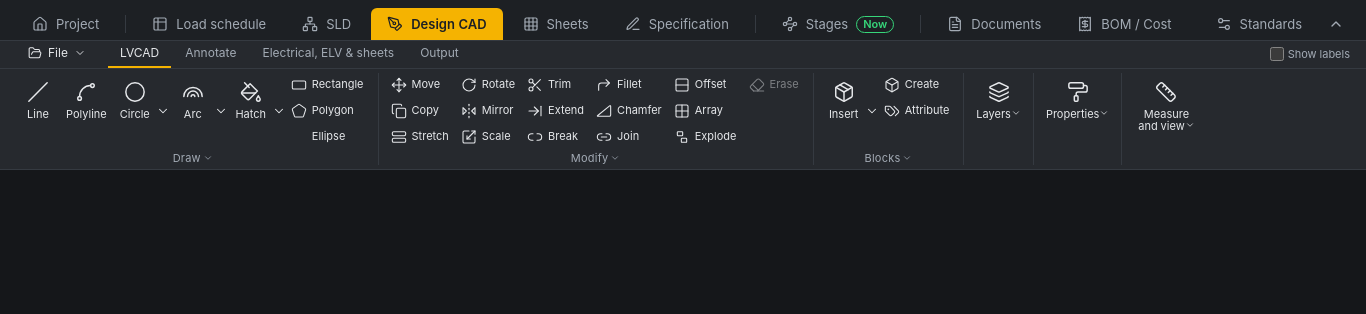
Test: Design CAD ribbon: File › runs what is picked and closes; Open, Close and Export are lists beside it; Esc closes it, not the command
The width and height of the screenshot is (1366, 314).
Later steps or results of the test are not shown.
Step 1. Click the button "File" → {"x": 57, "y": 54}, box left=16, top=41, right=98, bottom=68
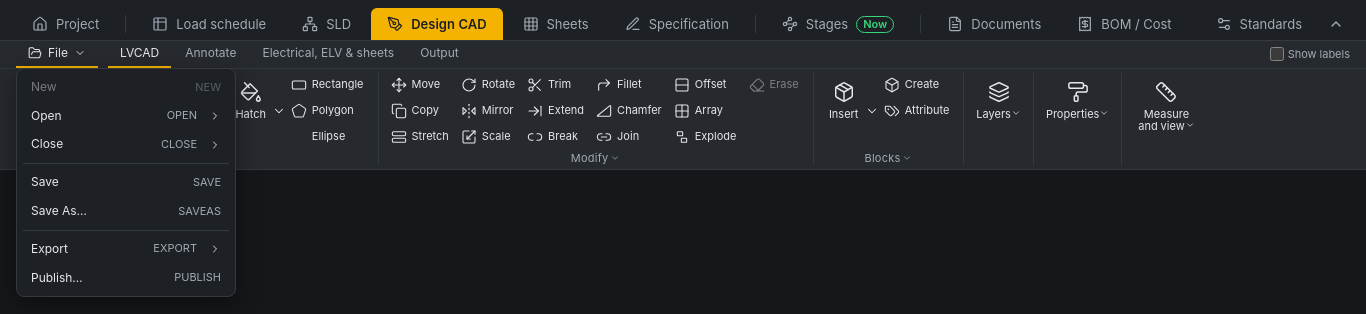
Step 2. Hover over the menu item "Open OPEN" → {"x": 126, "y": 116}, box left=21, top=102, right=231, bottom=130
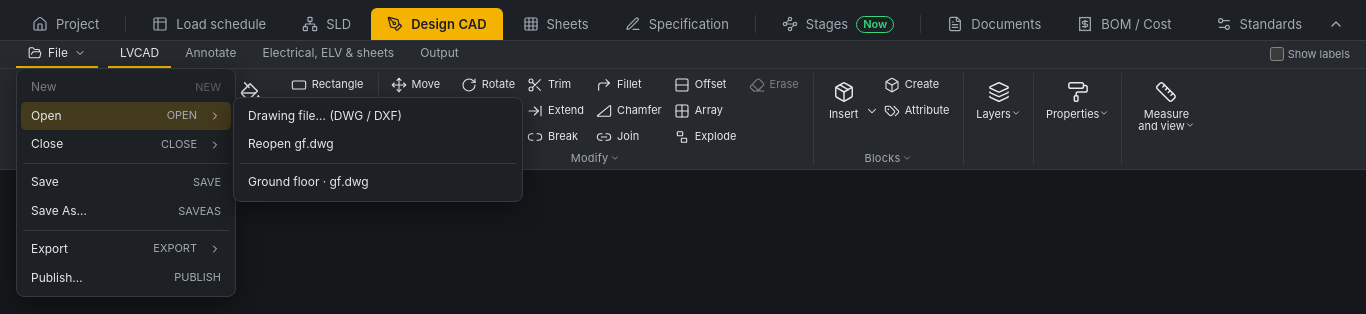
Step 3. Click the menu item "Ground floor · gf.dwg" → {"x": 308, "y": 182}, box left=238, top=168, right=518, bottom=197
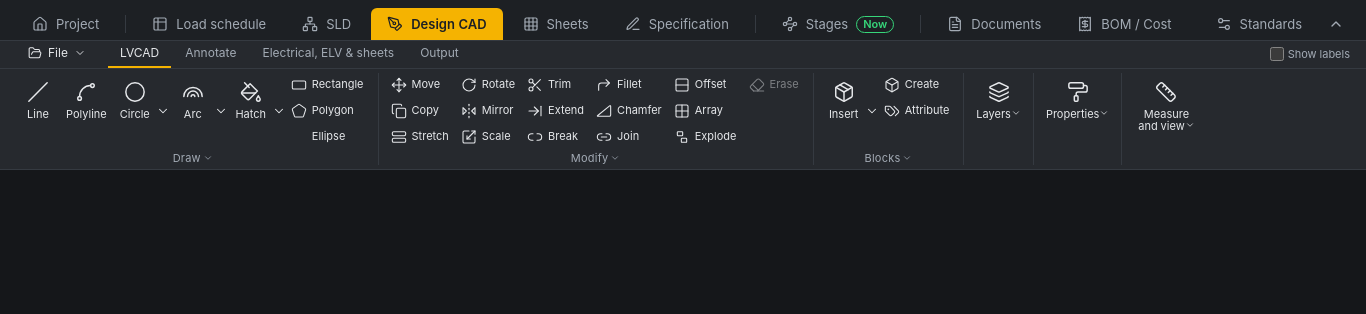
expect the menu item named "File" is gone: met
